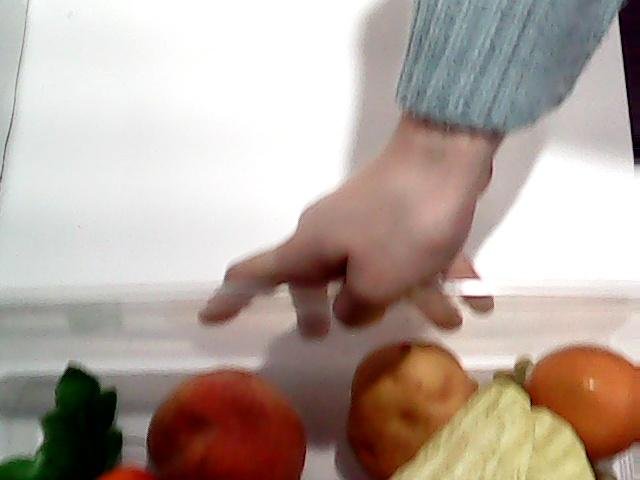carrot: (0, 360, 154, 480)
lemon: (520, 323, 640, 457)
napa cabbage: (217, 376, 623, 480)
peach: (145, 367, 306, 480)
potato: (348, 340, 479, 480)
